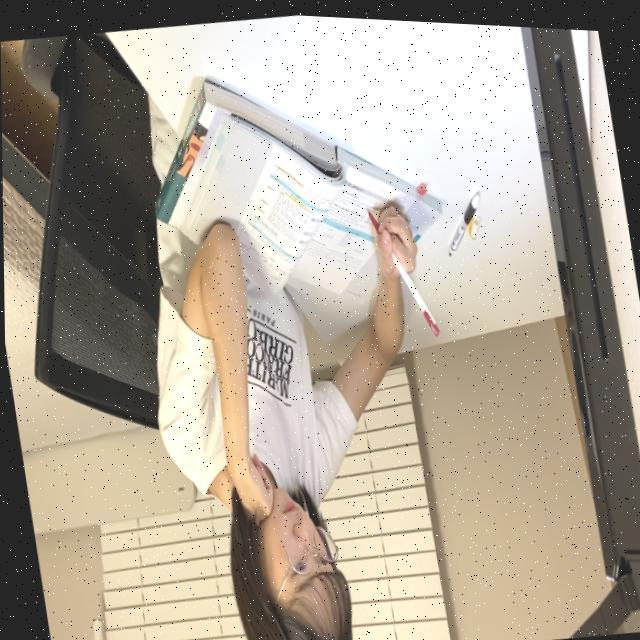studying-person: (91, 28, 518, 640)
